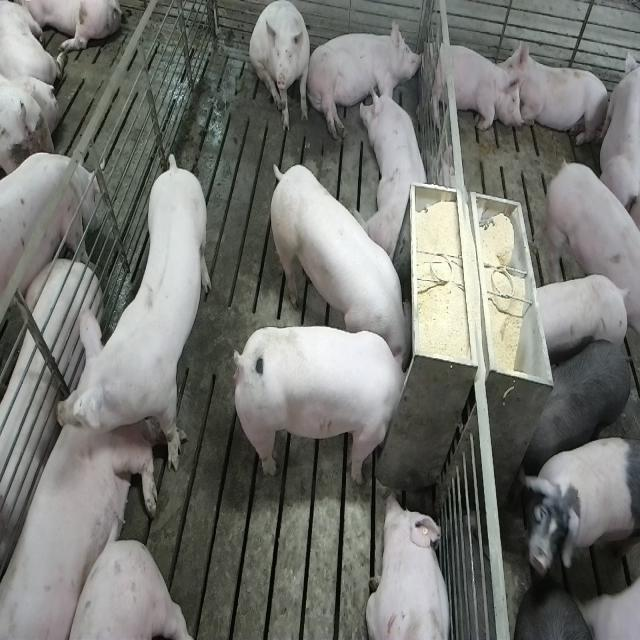Feeding: (265, 160, 412, 367), (228, 323, 409, 484)
Lateral_lying: (306, 15, 424, 142)
Sitting: (250, 1, 312, 134)
Standing: (54, 158, 211, 482), (0, 156, 98, 348), (516, 432, 637, 582), (542, 155, 637, 341), (523, 332, 636, 473), (531, 274, 630, 358)
Sternal_lying: (0, 365, 152, 635), (365, 490, 453, 640), (363, 72, 433, 259), (509, 40, 612, 149), (423, 37, 522, 138)
